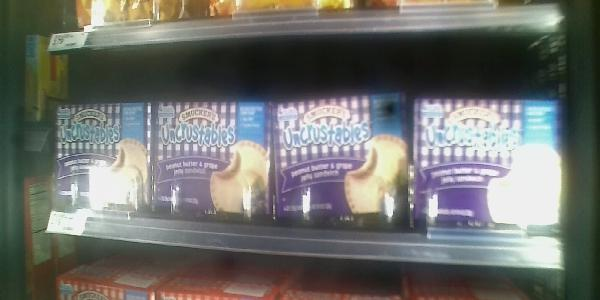icecream: (413, 93, 561, 236), (277, 95, 409, 235), (149, 98, 277, 224), (51, 101, 148, 216)
